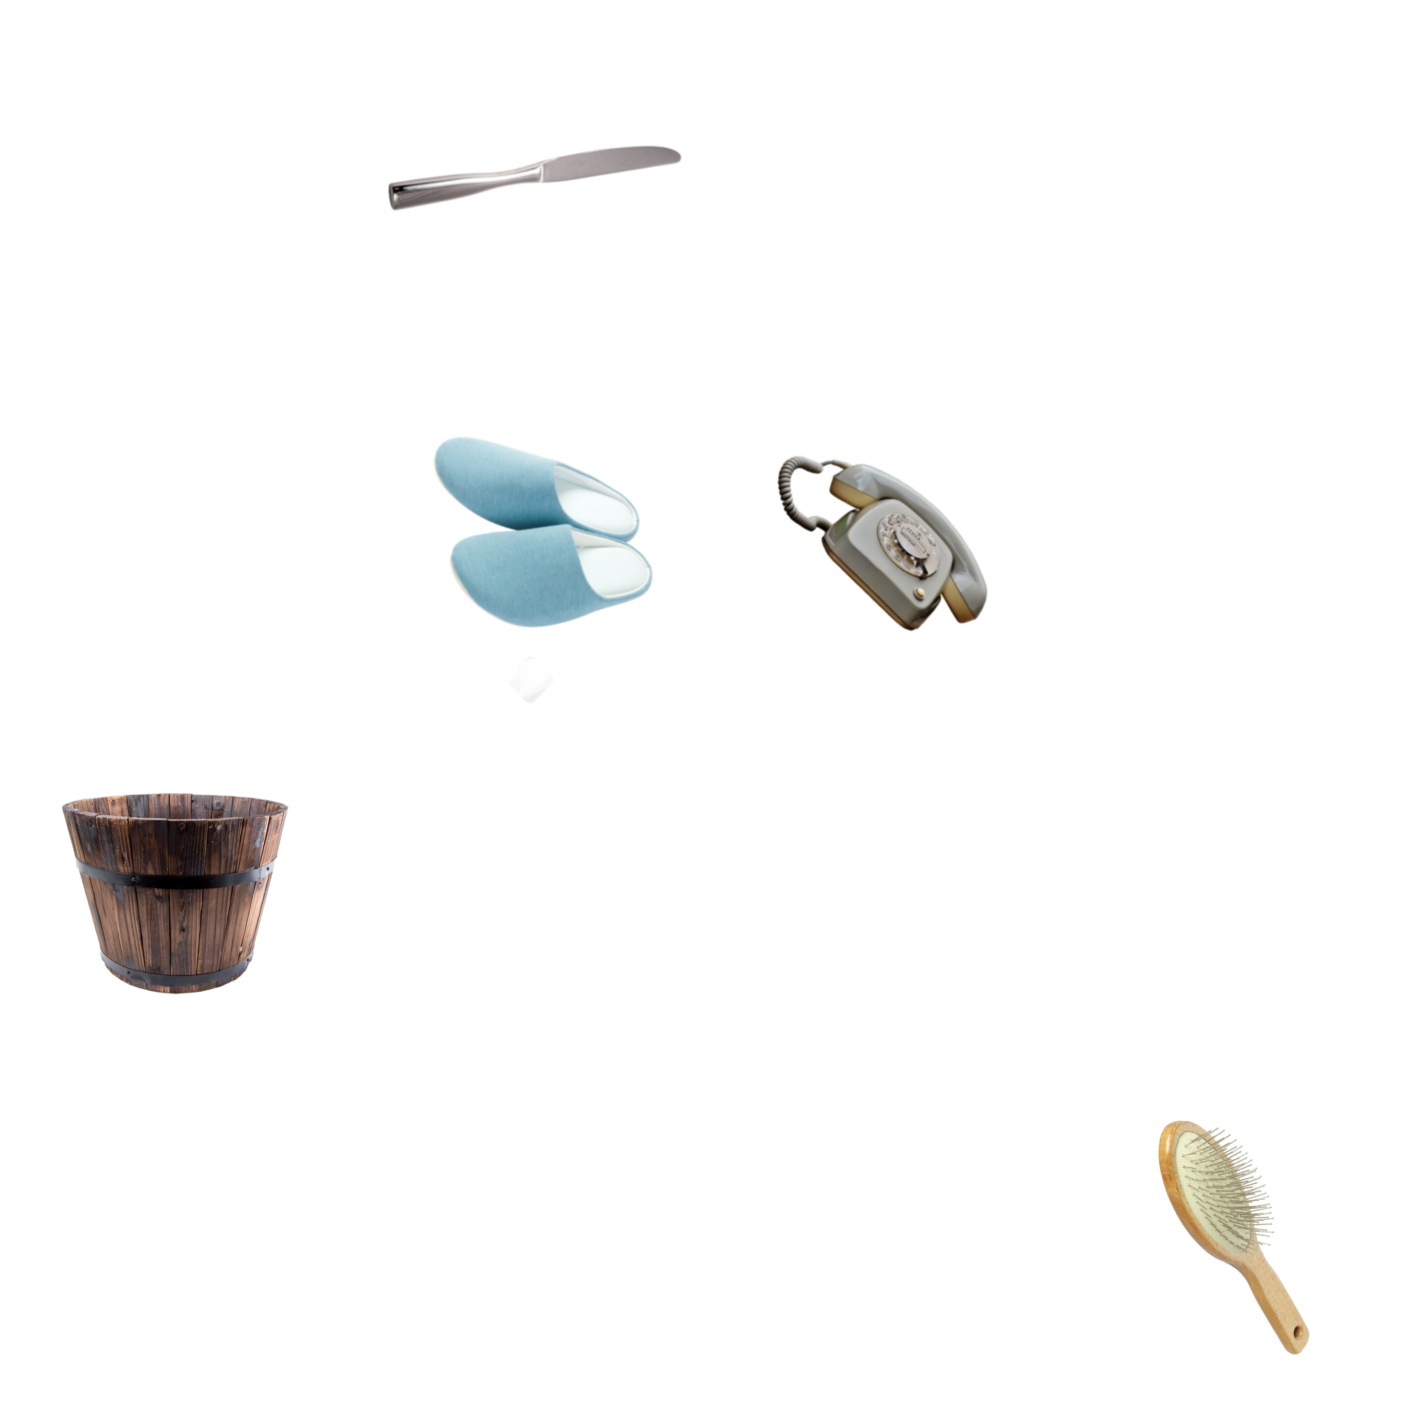Color: (1132, 406, 1339, 664)
